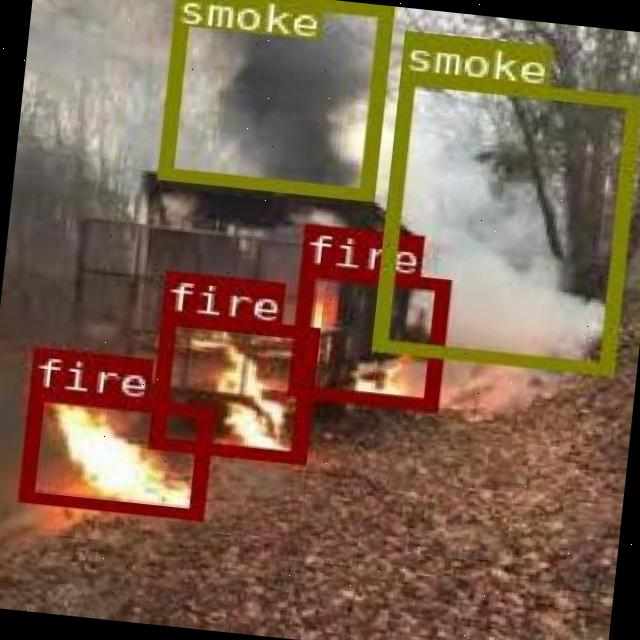smoke: (369, 69, 640, 373), (152, 0, 390, 198)
